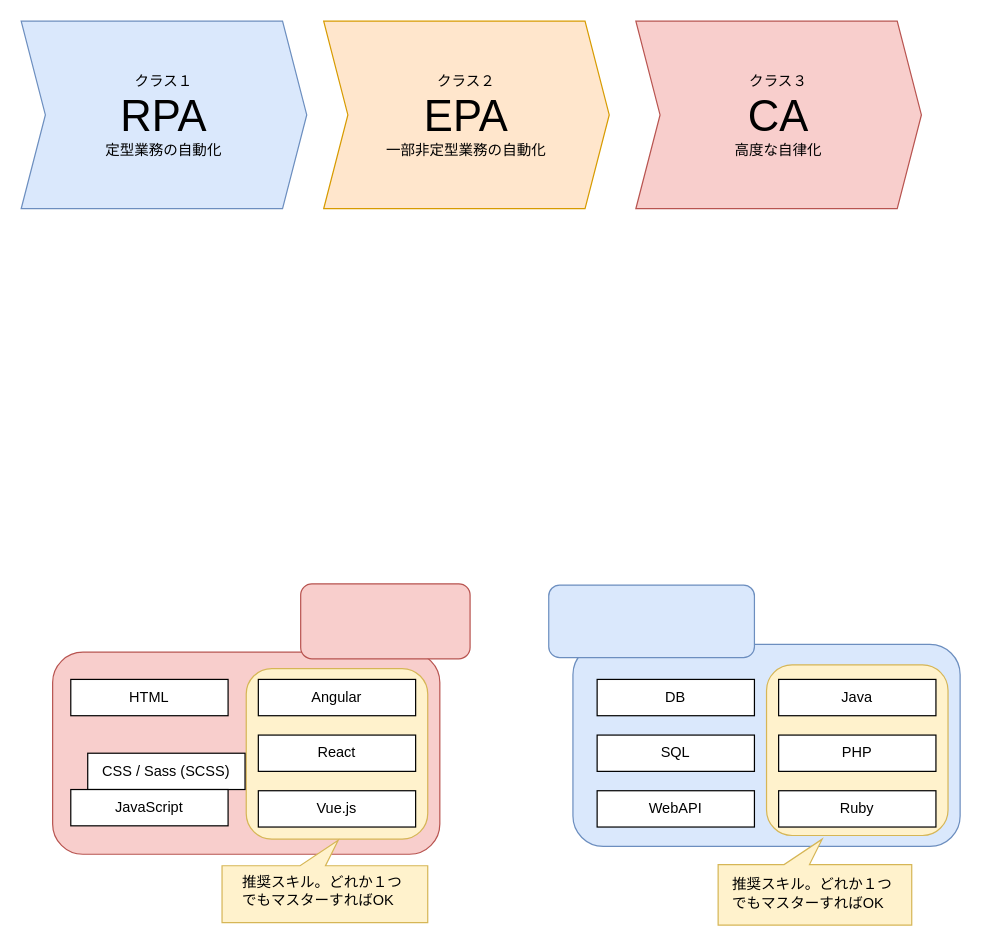
This 981x946 diagram has some shape labels left out. Each missing label, with the box of its shape:
Webサーバサイドエンジニア: (548, 584, 754, 658)
Webフロントエンジニア: (299, 583, 470, 659)
